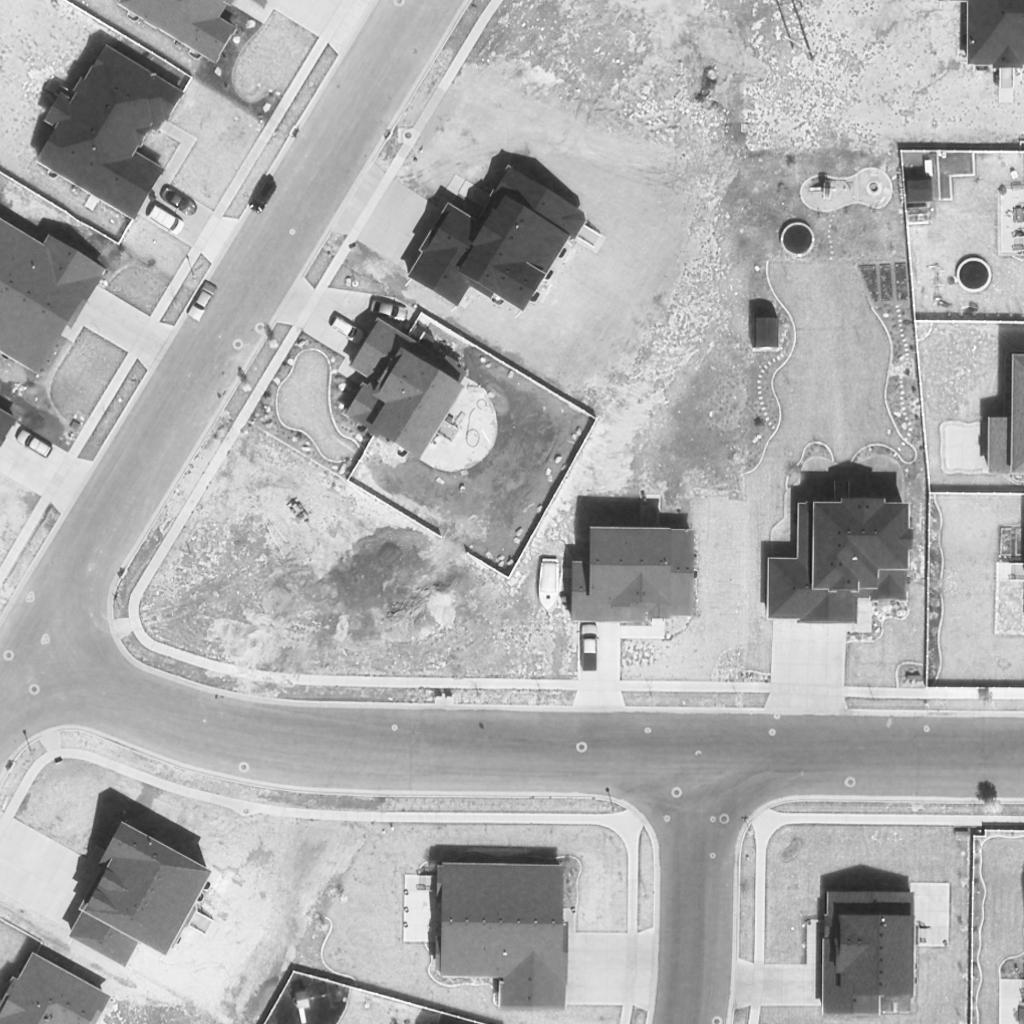vehicle: (245, 176, 279, 222), (14, 426, 56, 460), (327, 311, 367, 345), (187, 280, 219, 322), (143, 209, 189, 235), (370, 298, 412, 324), (160, 189, 202, 213), (540, 558, 558, 612), (580, 623, 598, 673)
